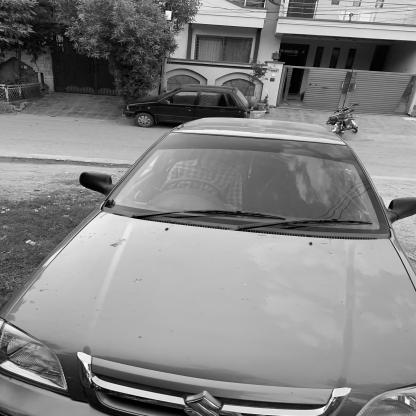no-seatbelt: (174, 150, 230, 194)
